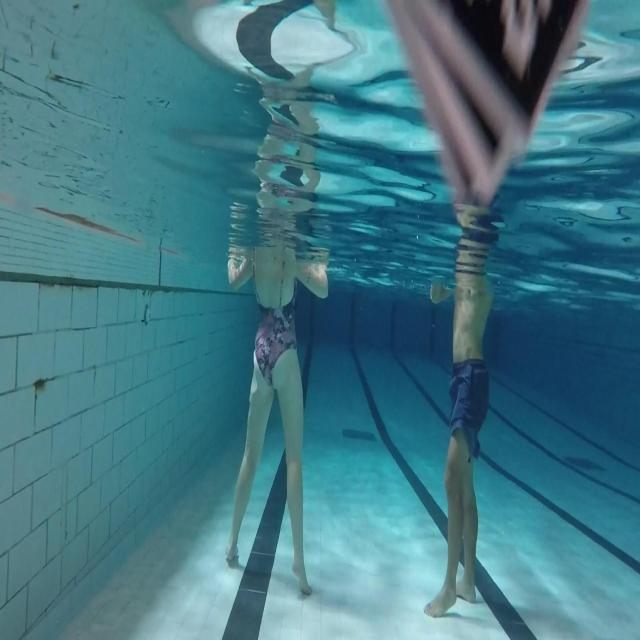human: (383, 0, 589, 618), (224, 85, 332, 596), (423, 197, 500, 618)
